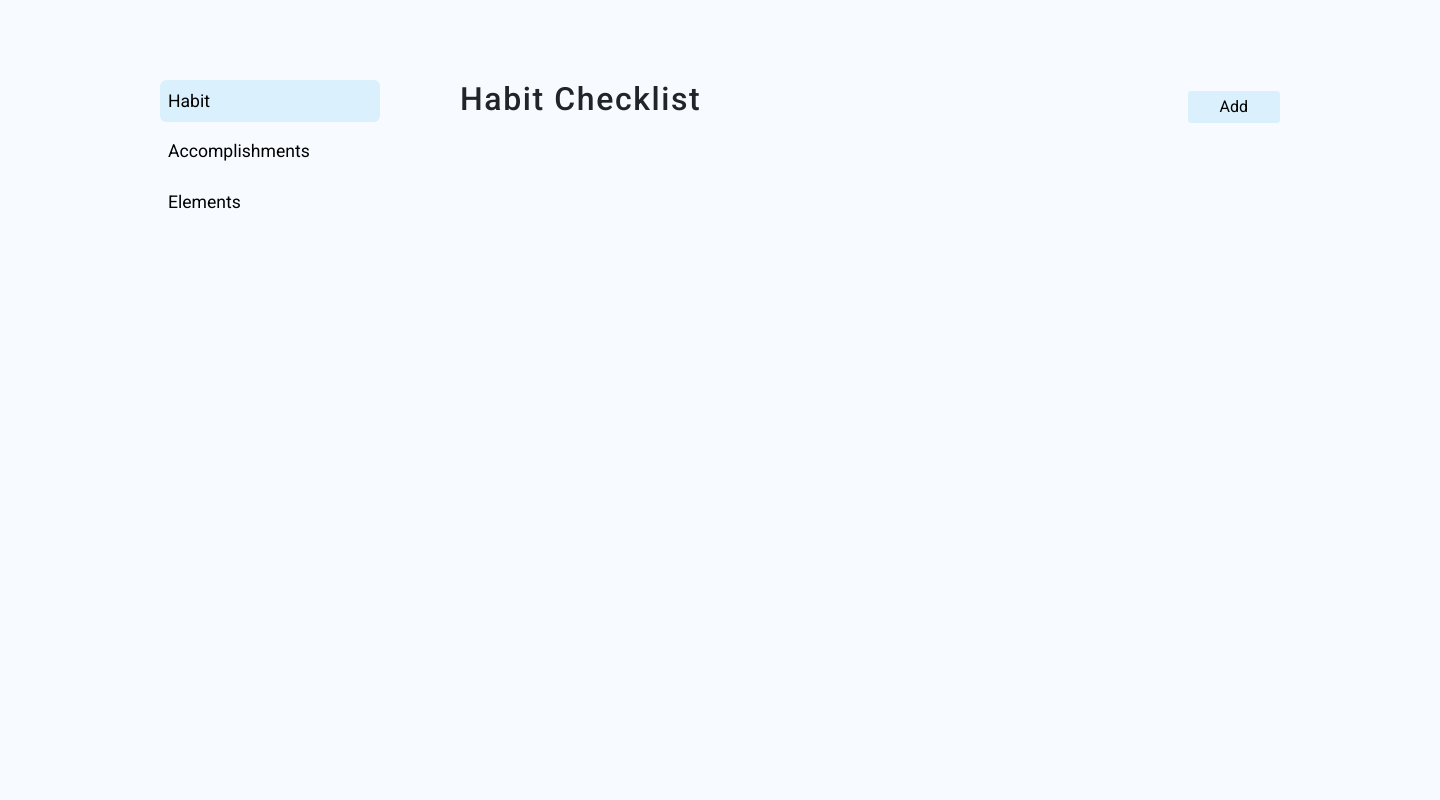
Test: habit dashboard › should display habit card when a new habit is added
The image size is (1440, 800).
Click the button with id "habit-add-btn": {"x": 1235, "y": 107} [1188,91,1281,123]
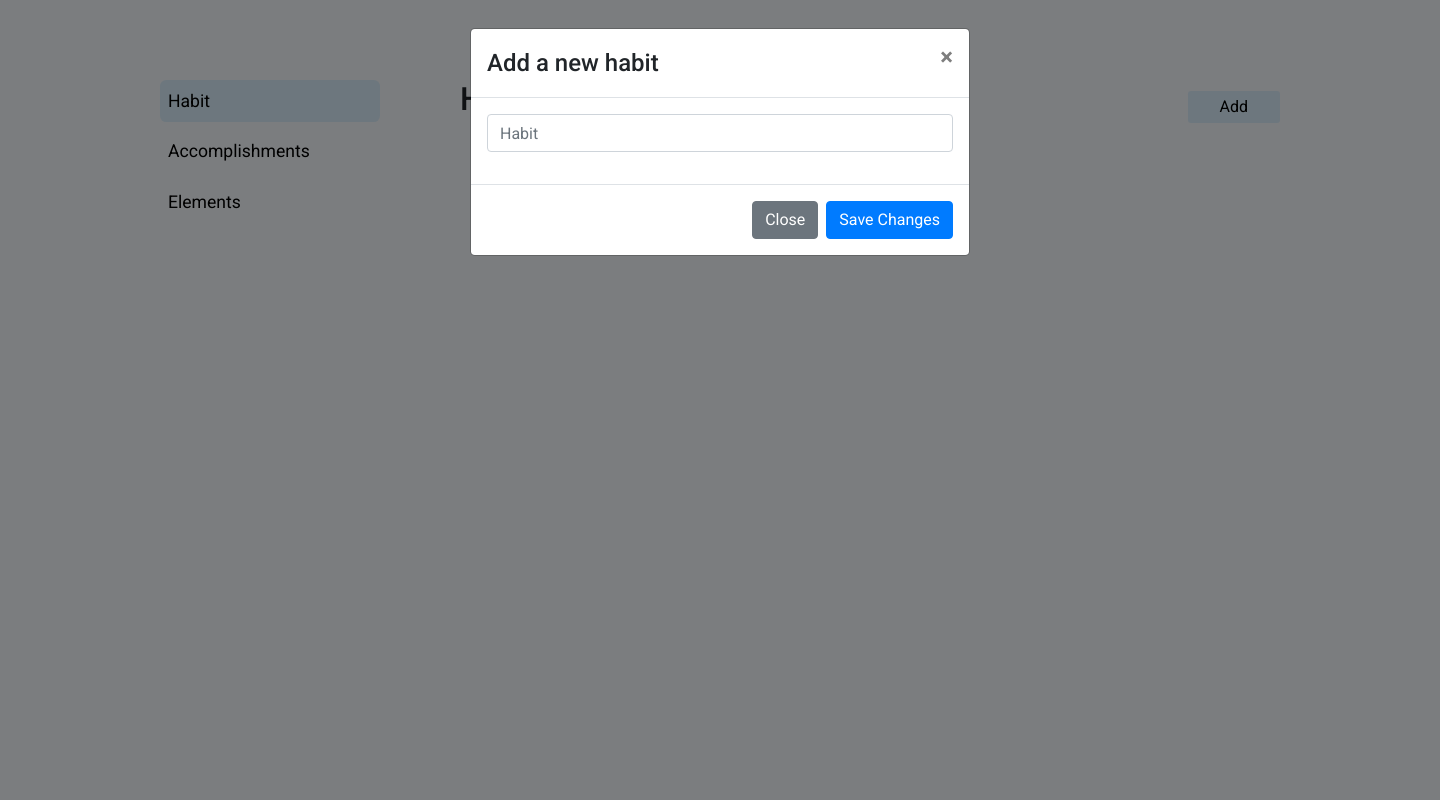
In the field with placeholder "Habit": {"x": 720, "y": 133} [487,114,953,152], type "first habit"
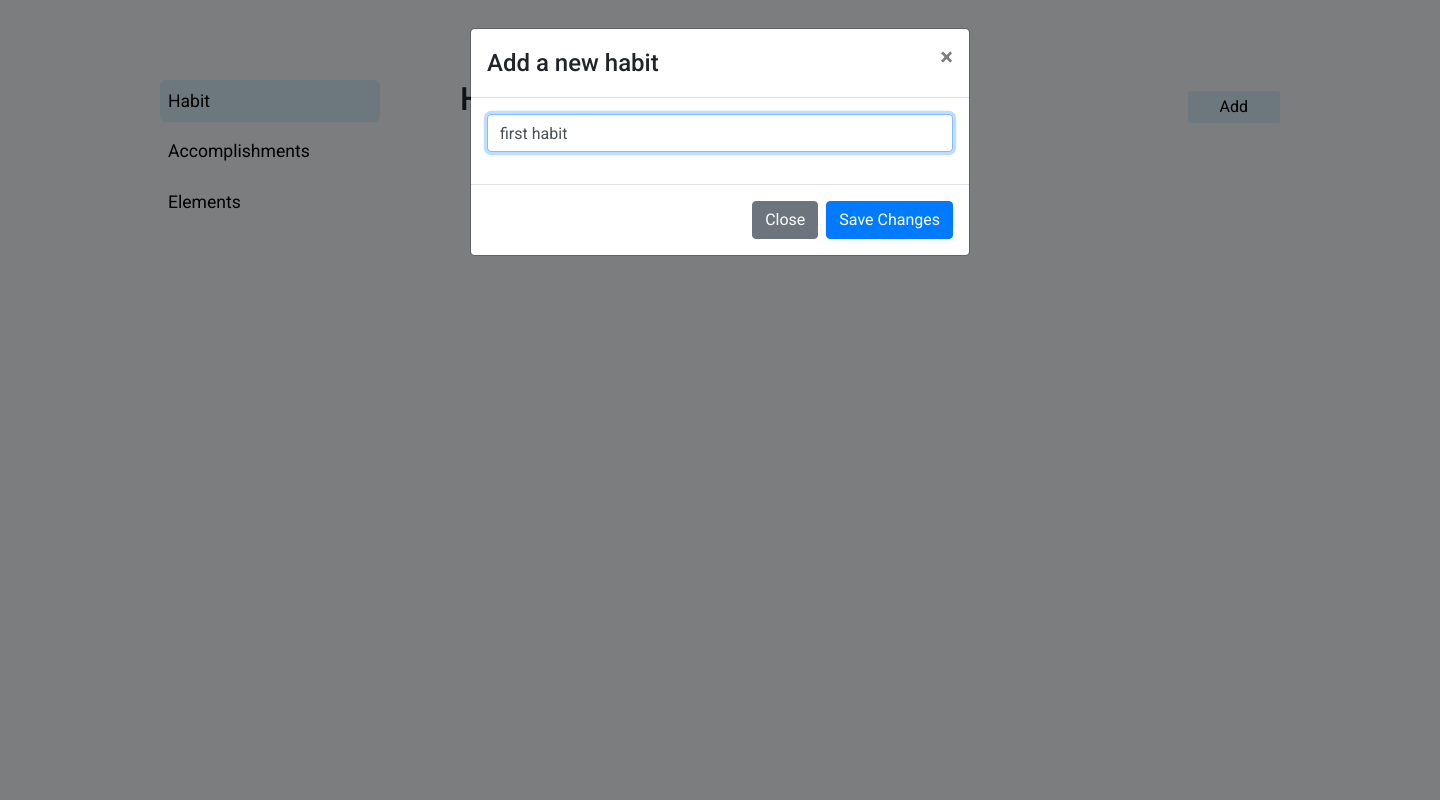
Click the button "Save Changes": {"x": 890, "y": 220} [826,201,953,239]
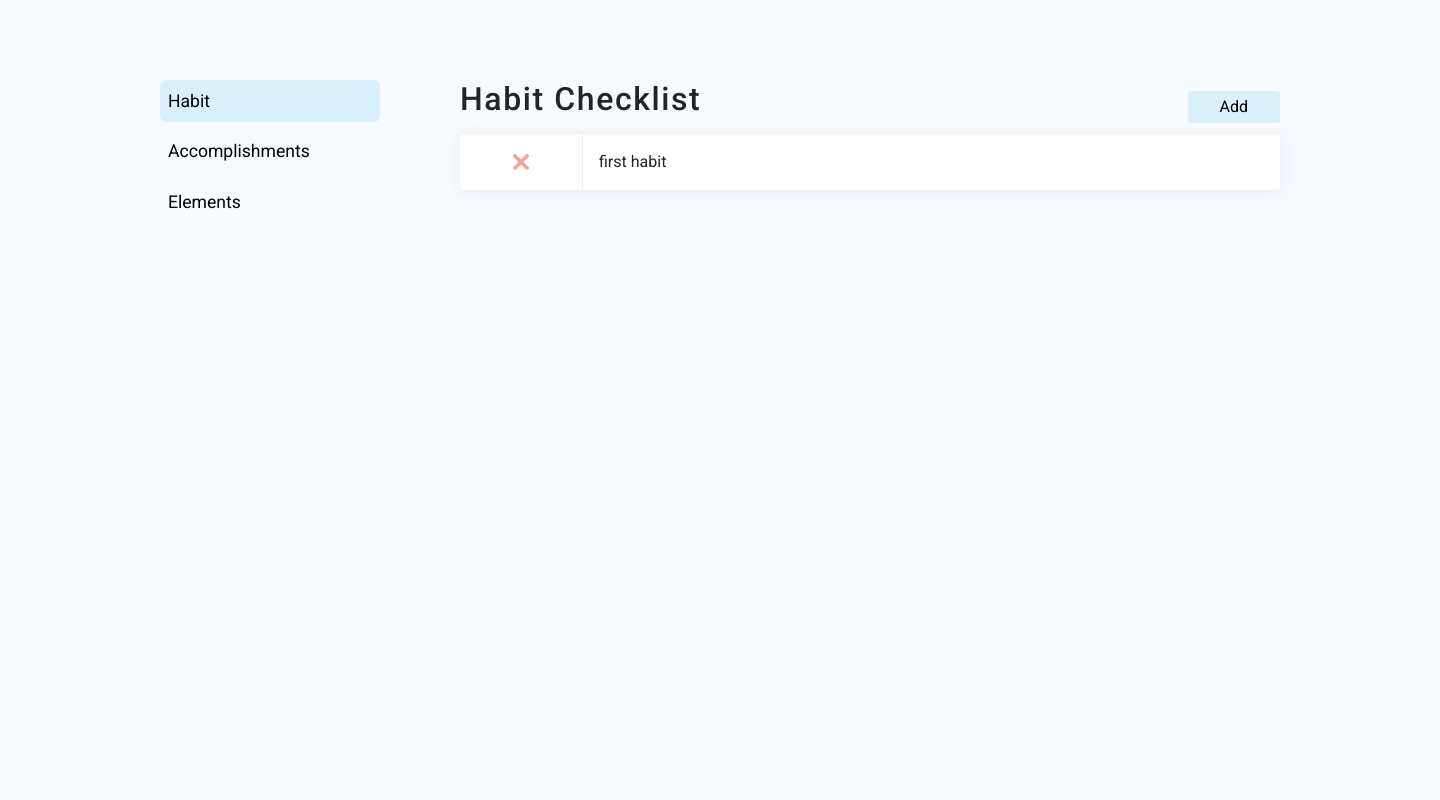
Expected: the element with class "HabitCard" is shown, [460,134,1280,190]
Expected: the text "first habit" is shown, [599,152,666,171]
